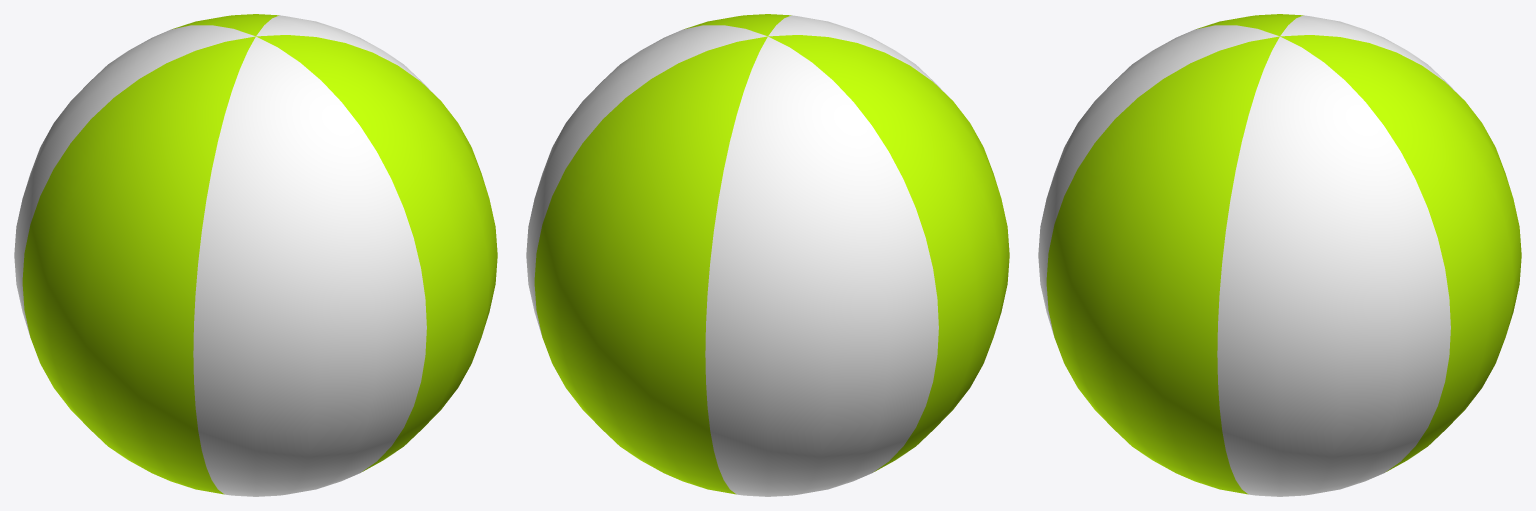
The model's file is BeachBall.glb.
The picture shows the model from 3 angles, left to right: view 1: azimuth 30°, elevation 25°; view 2: azimuth 150°, elevation 25°; view 3: azimuth 270°, elevation 25°; orthographic projection.
Parts seen in each view (by area): view 1: BeachBall; view 2: BeachBall; view 3: BeachBall.
Boxes of the visible parts, x1,y1,x2,y2 form: BeachBall: [14, 14, 497, 496]; BeachBall: [526, 14, 1009, 496]; BeachBall: [1038, 14, 1521, 496].
Size of the model in its own units: 0.015 by 0.015 by 0.015.
